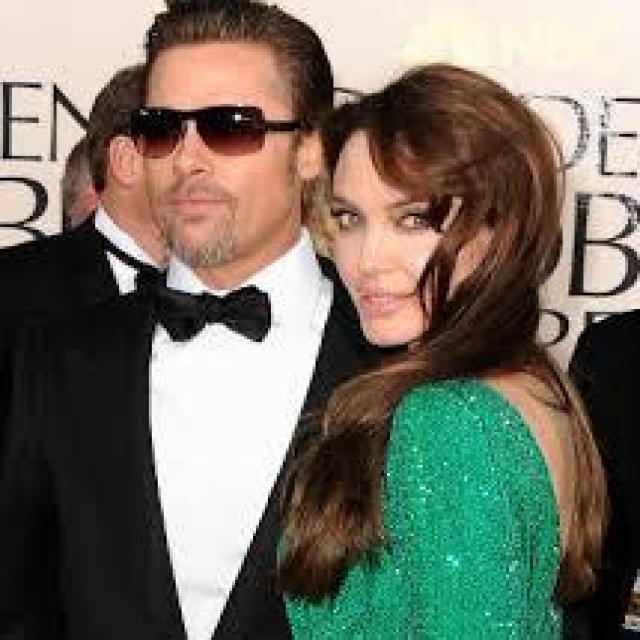person: (33, 3, 342, 637), (286, 60, 598, 637)
